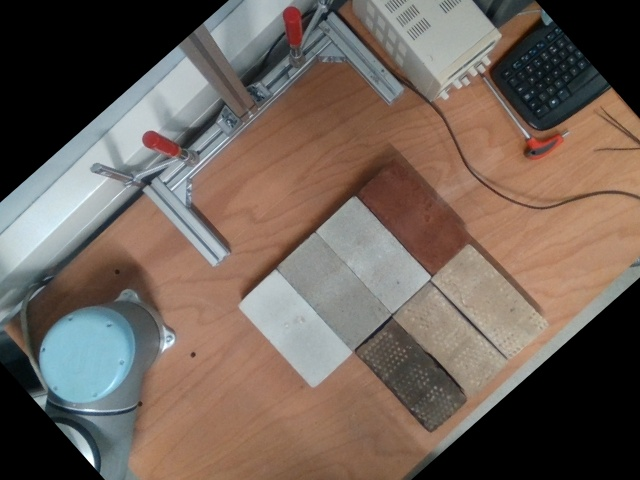brick: (433, 245, 545, 358), (279, 235, 389, 348), (319, 198, 429, 310), (358, 320, 465, 430), (361, 161, 468, 268), (398, 286, 504, 394), (242, 276, 347, 383)
